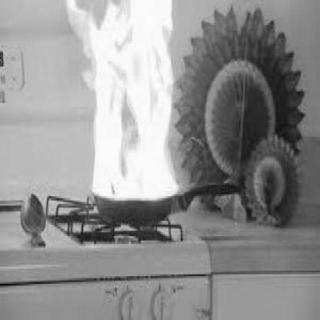other: (207, 54, 296, 204)
